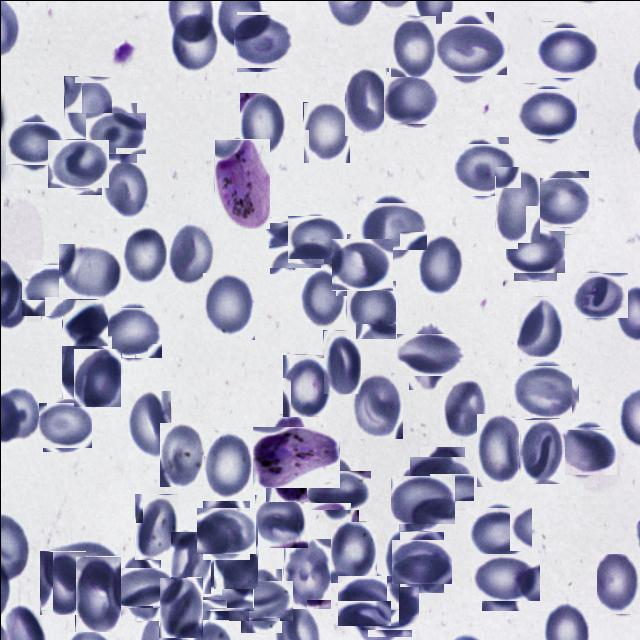gametocyte: (213, 138, 269, 228)
red blood cell: (436, 17, 500, 82), (514, 361, 574, 422), (452, 140, 512, 200), (201, 428, 253, 497), (202, 272, 255, 339), (493, 165, 539, 242), (362, 196, 422, 255), (58, 243, 122, 298), (74, 555, 120, 631), (476, 413, 522, 488), (282, 537, 330, 608), (351, 372, 402, 438), (470, 502, 528, 560), (476, 547, 534, 605), (536, 24, 594, 82), (333, 235, 390, 292), (234, 12, 290, 70), (535, 173, 591, 230), (61, 335, 111, 398), (519, 86, 575, 142), (104, 304, 160, 360), (24, 262, 80, 318), (339, 572, 395, 628), (394, 471, 451, 526), (170, 11, 220, 73), (281, 353, 330, 416), (126, 390, 170, 460), (402, 327, 458, 382), (239, 92, 286, 157), (327, 520, 376, 582), (439, 375, 488, 437), (558, 422, 612, 478), (63, 75, 111, 138), (414, 450, 468, 506), (344, 67, 388, 135), (213, 520, 257, 588), (168, 220, 214, 285), (518, 418, 564, 483), (194, 560, 248, 615), (346, 279, 396, 338), (40, 550, 86, 614), (50, 136, 104, 190), (289, 212, 343, 266), (302, 101, 349, 162), (515, 295, 562, 356), (384, 529, 428, 594), (389, 14, 435, 76), (134, 493, 177, 559), (159, 422, 203, 486), (254, 494, 307, 547), (199, 503, 252, 556), (384, 72, 436, 126), (570, 268, 624, 320), (74, 348, 122, 406), (234, 574, 287, 626), (417, 233, 462, 294), (312, 463, 364, 515), (114, 562, 166, 614), (395, 536, 447, 588), (158, 576, 202, 637), (299, 269, 345, 327), (121, 224, 166, 283), (103, 159, 148, 218), (596, 553, 640, 613), (509, 225, 560, 276), (8, 117, 59, 168), (266, 219, 317, 270), (90, 106, 140, 158), (364, 582, 414, 633), (170, 531, 210, 593), (40, 400, 90, 449), (322, 329, 360, 393), (61, 298, 107, 345)
trophozoite: (258, 420, 332, 494)
